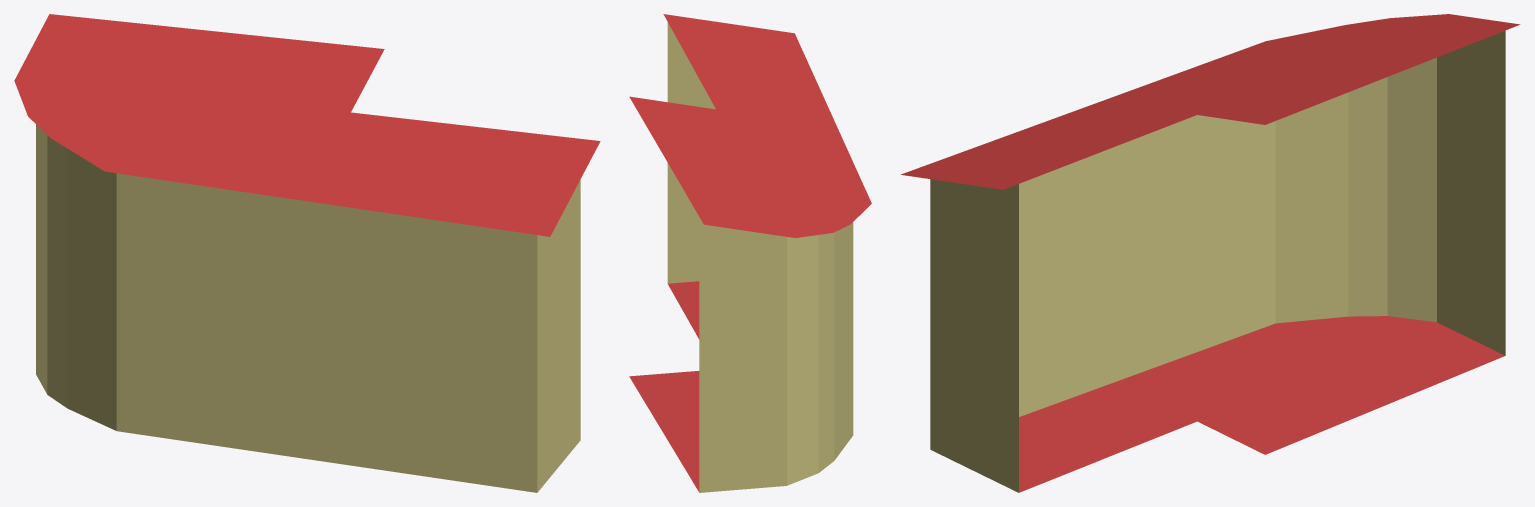
The picture shows the model from 3 angles, left to right: view 1: azimuth 30°, elevation 25°; view 2: azimuth 150°, elevation 25°; view 3: azimuth 270°, elevation 25°; orthographic projection. The views are drawn at different scales.
Bounding box in the file's own units: 10.68 × 14.58 × 8.55.
